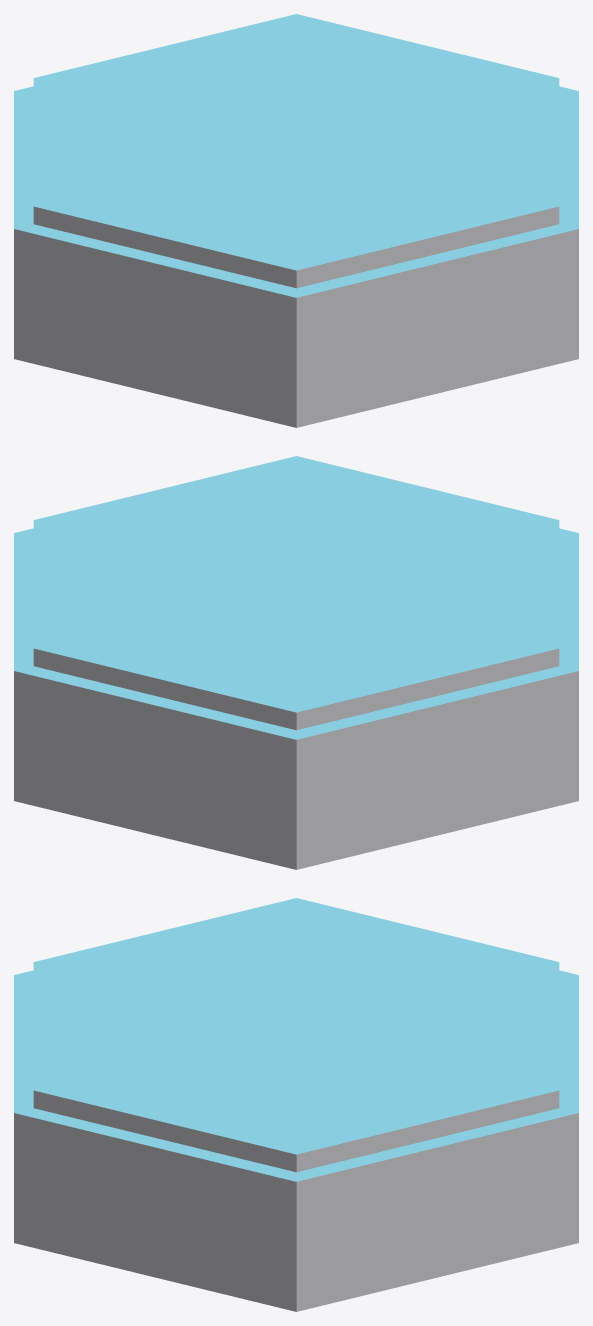
File: hex.glb
The picture shows the model from 3 angles, top to bottom: view 1: azimuth 30°, elevation 25°; view 2: azimuth 150°, elevation 25°; view 3: azimuth 270°, elevation 25°; orthographic projection.
Visible parts, largest first — view 1: HexTile; view 2: HexTile; view 3: HexTile.
Part boxes in pixels (box(x1,y1,x2,y2)): HexTile: box(14, 14, 578, 427); HexTile: box(14, 456, 578, 869); HexTile: box(14, 898, 578, 1311).
Size of the model in its own units: 2 by 0.5 by 1.73.
